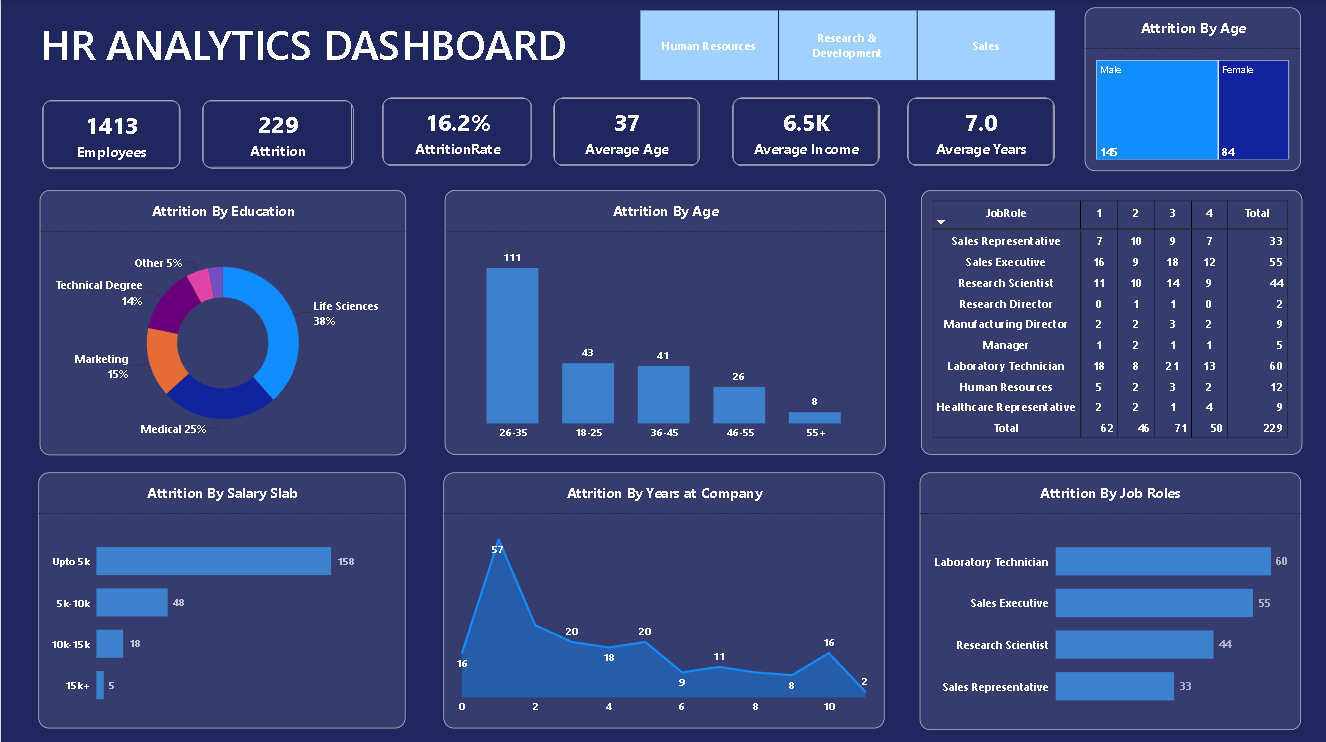

Layout of this report page (visuals, bound fields, positions):
{"tool":"powerbi","page":{"name":"Page 1","canvas":[1920,1080],"ordinal":0},"visuals":[{"type":"cardVisual","fields":{"Data":["CountNonNull(HR_Analytics.EmpID)"]},"box":[59.2,145.6,200,100],"z":0},{"type":"cardVisual","fields":{"Data":["Avg(HR_Analytics.Age)"]},"box":[799.4,142,211.7,99.5],"z":1000},{"type":"cardVisual","fields":{"Data":["Sum(HR_Analytics.AttritionCount)"]},"box":[290.9,145.6,219,99.5],"z":2000},{"type":"cardVisual","fields":{"Data":["HR_Analytics.AttritionRate"]},"box":[551.5,142,217.2,99.5],"z":3000},{"type":"cardVisual","fields":{"Data":["Avg(HR_Analytics.MonthlyIncome)"]},"box":[1058.2,142,213.5,99.5],"z":4000},{"type":"cardVisual","fields":{"Data":["Avg(HR_Analytics.YearsAtCompany)"]},"box":[1311.5,142,213.5,99.5],"z":5000},{"type":"donutChart","title":"Attrition By Education","fields":{"Category":["HR_Analytics.EducationField"],"Y":["Sum(HR_Analytics.AttritionCount)"]},"box":[55.9,274.9,530.2,383.6],"z":6000},{"type":"columnChart","title":"Attrition By Age","fields":{"Category":["HR_Analytics.AgeGroup"],"Y":["Sum(HR_Analytics.AttritionCount)"]},"box":[641.8,275.8,638.1,382.8],"z":7000},{"type":"pivotTable","fields":{"Columns":["HR_Analytics.JobSatisfaction"],"Rows":["HR_Analytics.JobRole"],"Values":["Sum(HR_Analytics.AttritionCount)"]},"box":[1331.3,275.8,551.6,382.8],"z":8000},{"type":"barChart","title":"Attrition By Salary Slab","fields":{"Category":["HR_Analytics.SalarySlab"],"Y":["Sum(HR_Analytics.AttritionCount)"]},"box":[53.5,683.4,531,370.5],"z":9000},{"type":"barChart","title":"Attrition By Job Roles","fields":{"Category":["HR_Analytics.JobRole"],"Y":["Sum(HR_Analytics.AttritionCount)"]},"box":[1329.7,683.4,551.6,372.6],"z":10000},{"type":"areaChart","title":"Attrition By Years at Company","fields":{"Category":["HR_Analytics.YearsAtCompany"],"Y":["Sum(HR_Analytics.AttritionCount)"]},"box":[640.1,683.4,638.1,370.5],"z":11000},{"type":"treemap","title":"Attrition By Age","fields":{"Group":["HR_Analytics.Gender"],"Values":["Sum(HR_Analytics.AttritionCount)"]},"box":[1568.4,10.3,312.9,236.7],"z":11001},{"type":"slicer","fields":{"Values":["HR_Analytics.Department"]},"box":[905.7,12.3,640.1,105],"z":11002},{"type":"textbox","box":[55.6,22.6,821.3,94.7],"z":11003}]}

Visuals, with their boxes in screenshot pixels (x1, y1, x2, y2), scaled from the page's 1920x1080 canvas onto the 1326x742 screenshot:
cardVisual - CountNonNull(HR_Analytics.EmpID): bbox=[41, 100, 179, 169]
cardVisual - Avg(HR_Analytics.Age): bbox=[552, 98, 698, 166]
cardVisual - Sum(HR_Analytics.AttritionCount): bbox=[201, 100, 352, 168]
cardVisual - HR_Analytics.AttritionRate: bbox=[381, 98, 531, 166]
cardVisual - Avg(HR_Analytics.MonthlyIncome): bbox=[731, 98, 878, 166]
cardVisual - Avg(HR_Analytics.YearsAtCompany): bbox=[906, 98, 1053, 166]
"Attrition By Education" donutChart: bbox=[39, 189, 405, 452]
"Attrition By Age" columnChart: bbox=[443, 189, 884, 452]
pivotTable - HR_Analytics.JobSatisfaction x HR_Analytics.JobRole: bbox=[919, 189, 1300, 452]
"Attrition By Salary Slab" barChart: bbox=[37, 470, 404, 724]
"Attrition By Job Roles" barChart: bbox=[918, 470, 1299, 726]
"Attrition By Years at Company" areaChart: bbox=[442, 470, 883, 724]
"Attrition By Age" treemap: bbox=[1083, 7, 1299, 170]
slicer - HR_Analytics.Department: bbox=[625, 8, 1068, 81]
textbox: bbox=[38, 16, 606, 81]
